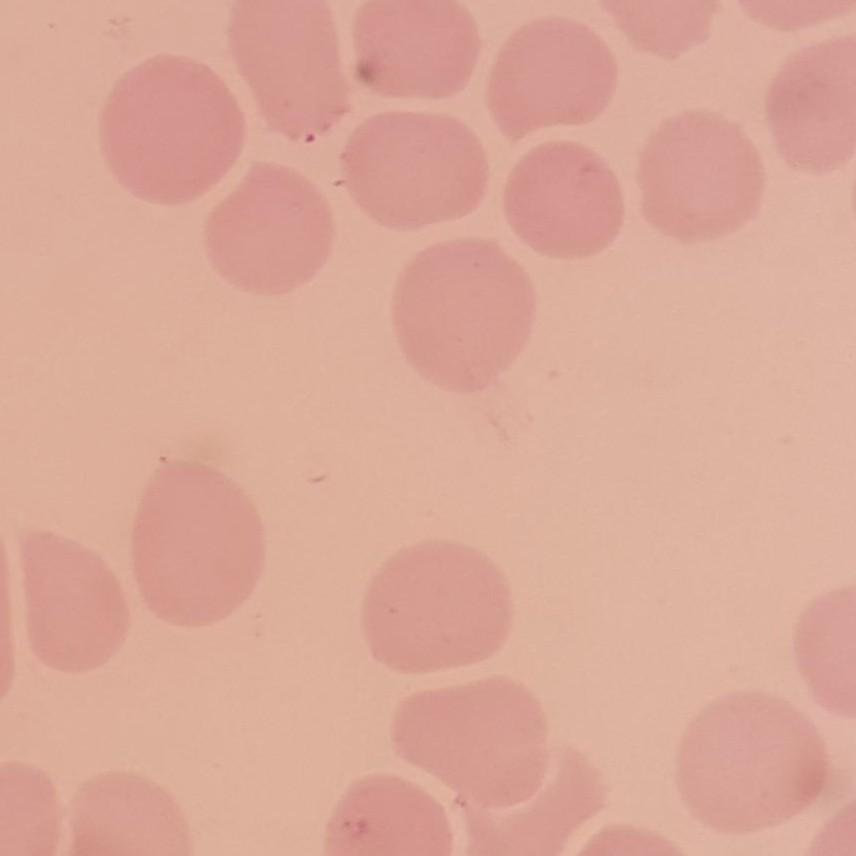Uninfected: (134, 453, 271, 629), (390, 235, 537, 389), (100, 55, 247, 205), (678, 693, 829, 829), (394, 679, 552, 807), (370, 539, 512, 669), (202, 161, 335, 292), (342, 109, 485, 229), (488, 15, 621, 140), (20, 525, 131, 672), (236, 0, 348, 138), (640, 115, 761, 233), (508, 141, 624, 257), (352, 0, 481, 101)
